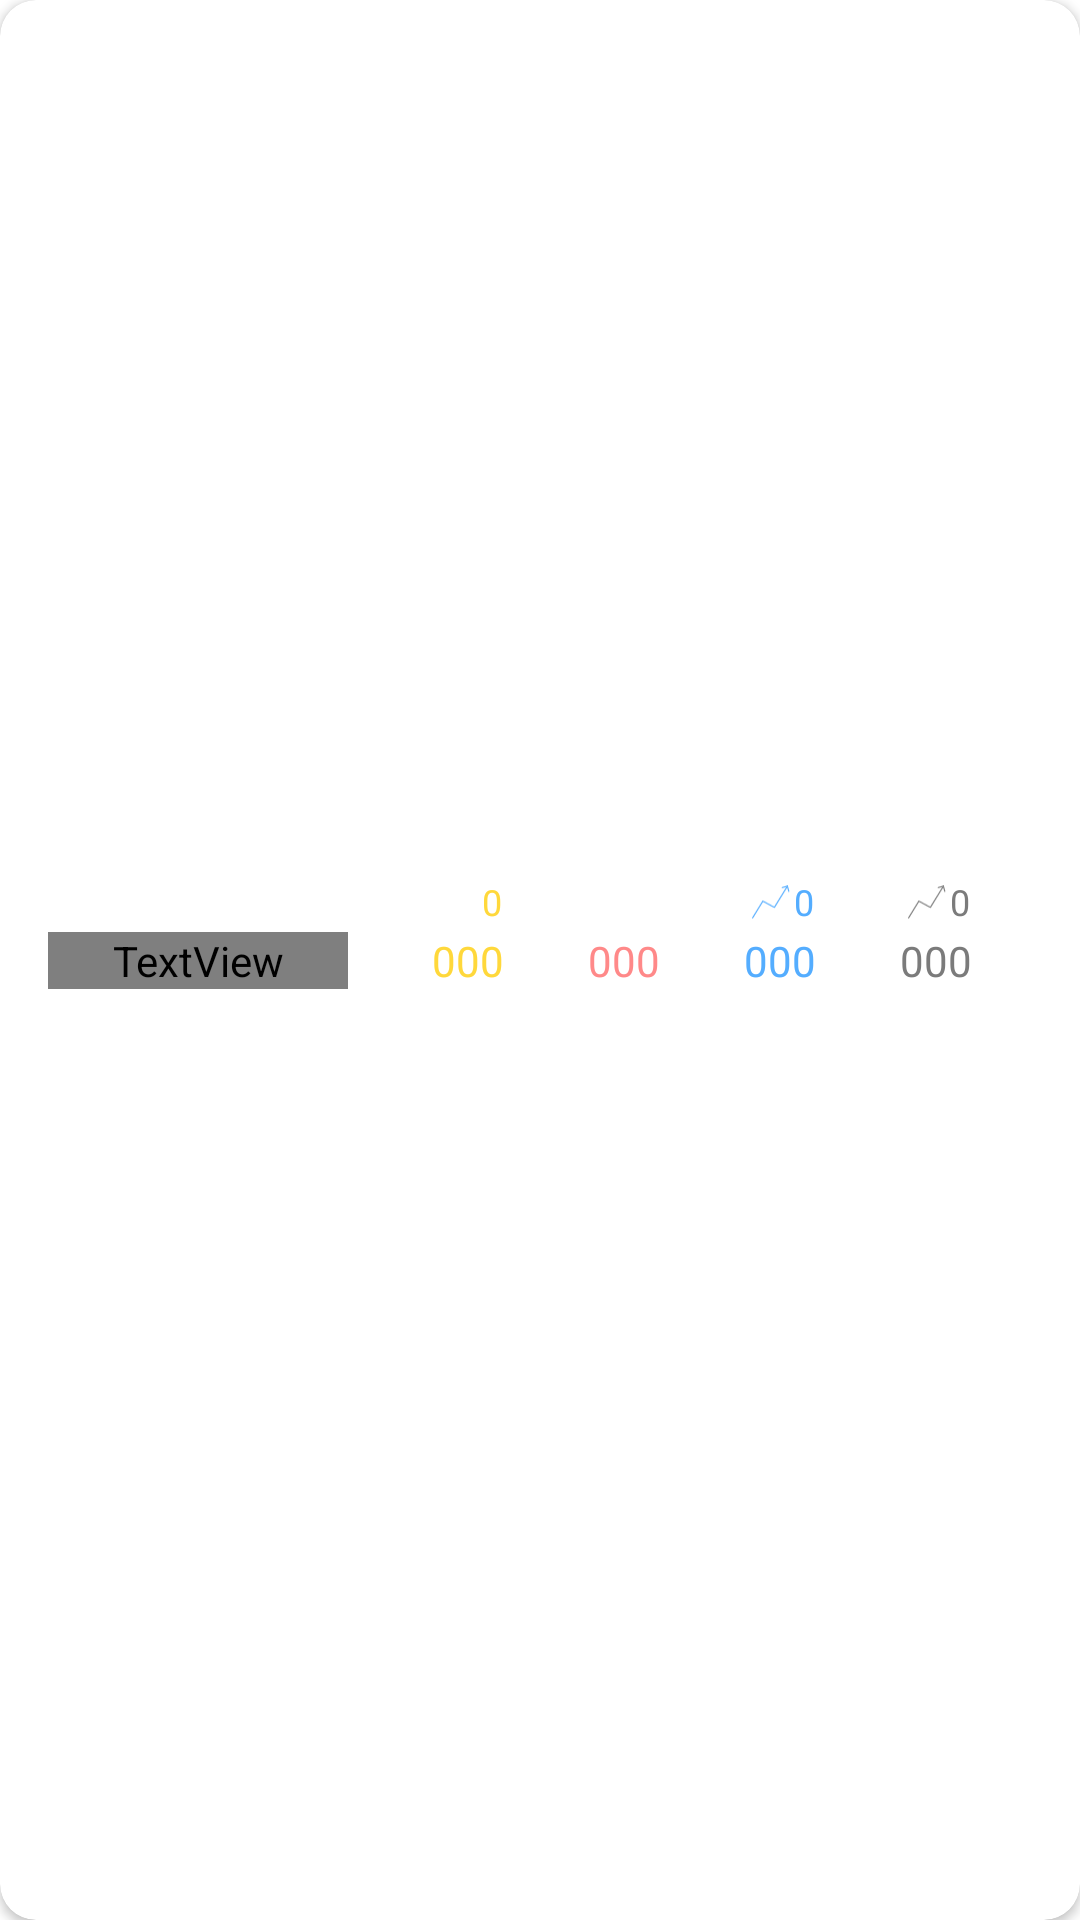

Locate icon controls on the screen. Image size 1080*1920, boxes as (x1, y1, x2, y2).
trend arrow: (752, 885, 790, 919), (908, 885, 945, 919)
